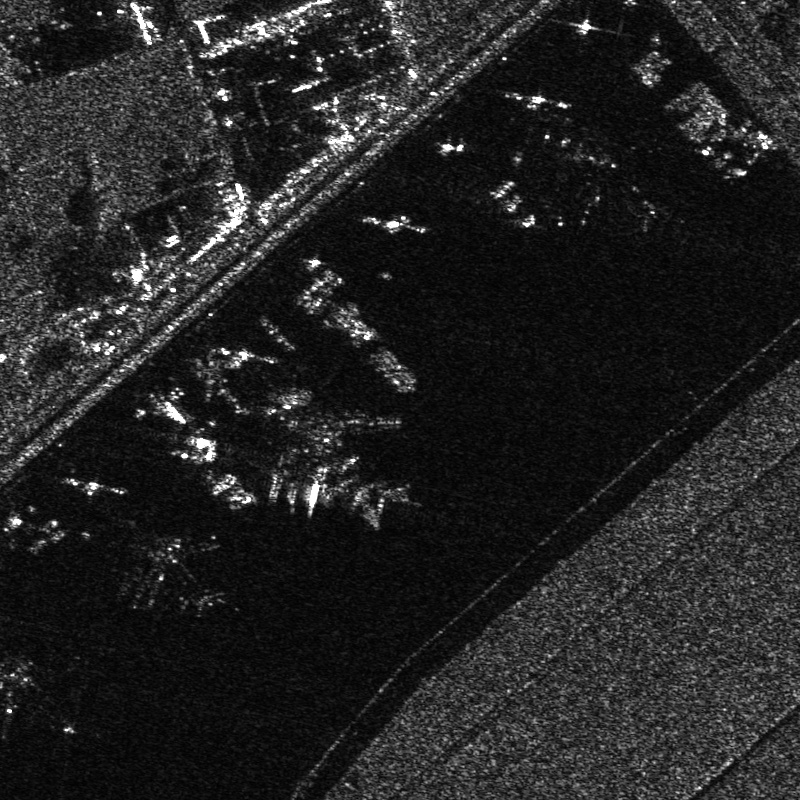Boeing737: (131, 530, 229, 622)
other: (267, 406, 424, 532), (564, 132, 672, 241)
